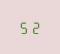five: (19, 20, 29, 34)
two: (30, 20, 40, 34)
